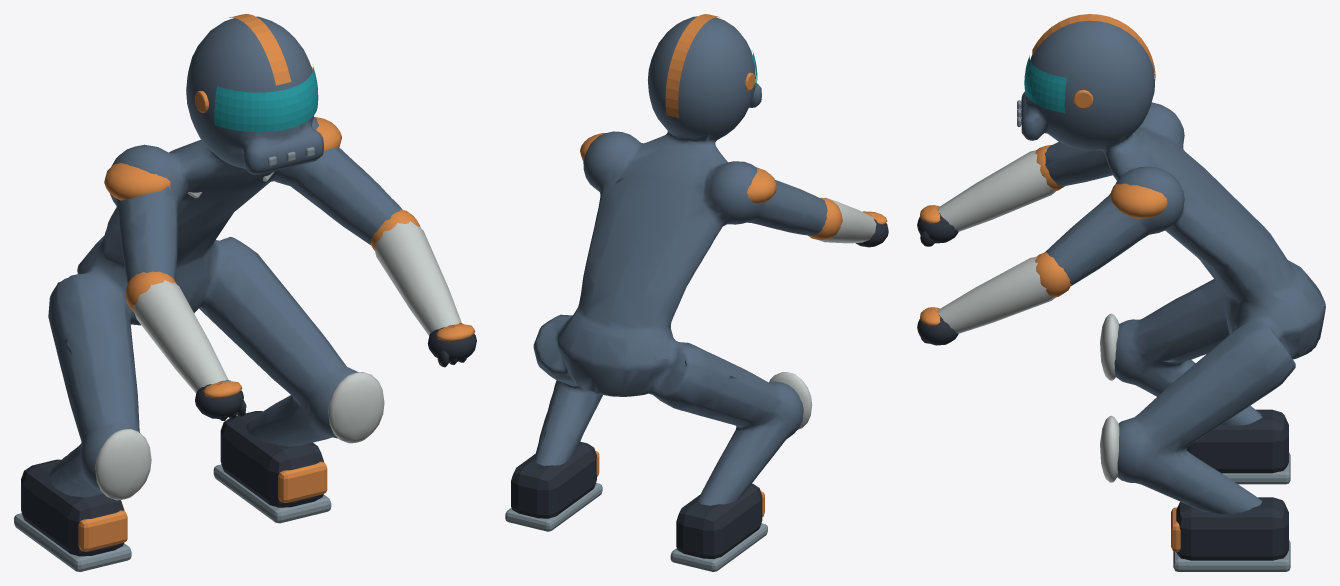
Rendered from rider.glb.
3 renders of one model, left to right at view 1: azimuth 30°, elevation 25°; view 2: azimuth 150°, elevation 25°; view 3: azimuth 270°, elevation 25°, orthographic. The views are drawn at different scales.
Visible parts, largest first — view 1: SeatedRider; view 2: SeatedRider; view 3: SeatedRider.
Boxes of the visible parts, x1,y1,x2,y2 form: SeatedRider: (14,14,476,571); SeatedRider: (505,14,888,571); SeatedRider: (917,14,1325,571).
Bounding box in the file's own units: 0.87 × 1.6 × 1.18.
